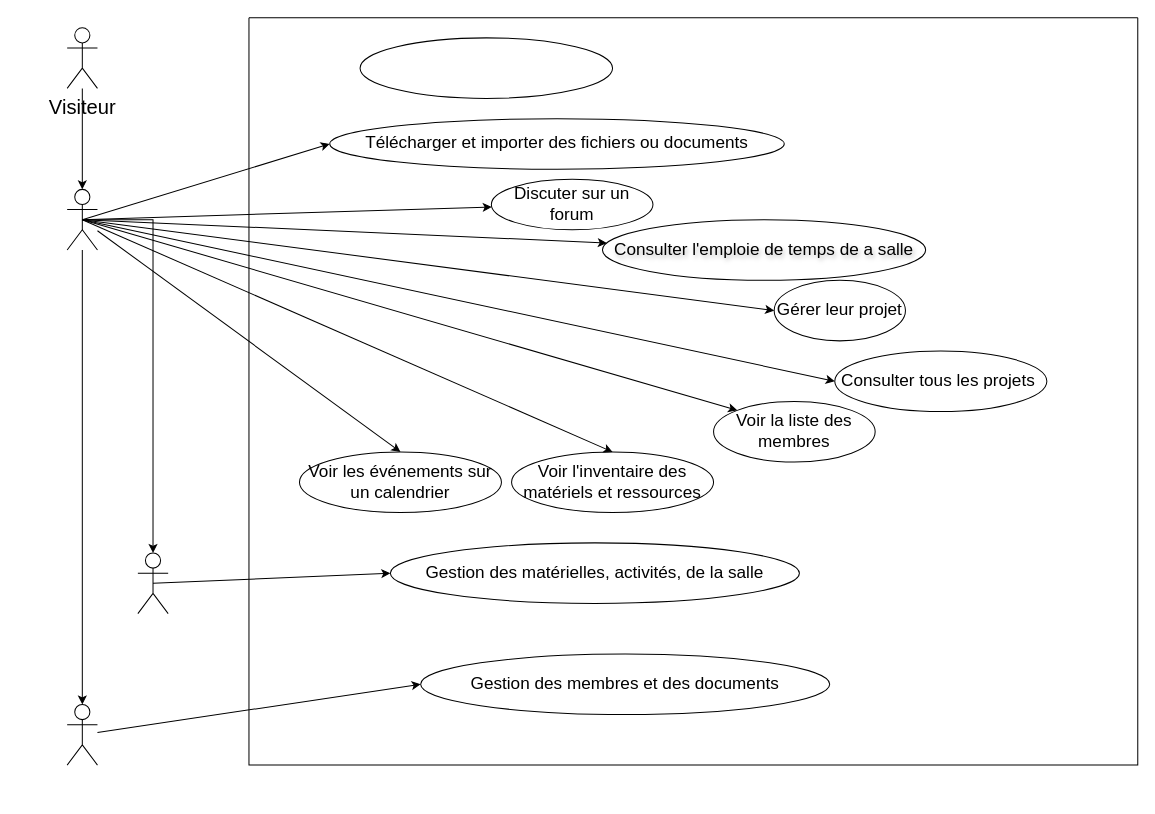
This 1155x814 diagram has some shape labels left out. Each missing label, with the box of its shape:
Administrateur: (66, 703, 97, 765)
Consulter la landing page: (359, 37, 613, 98)
Membre: (66, 188, 97, 250)
Responsable: (137, 552, 168, 614)
